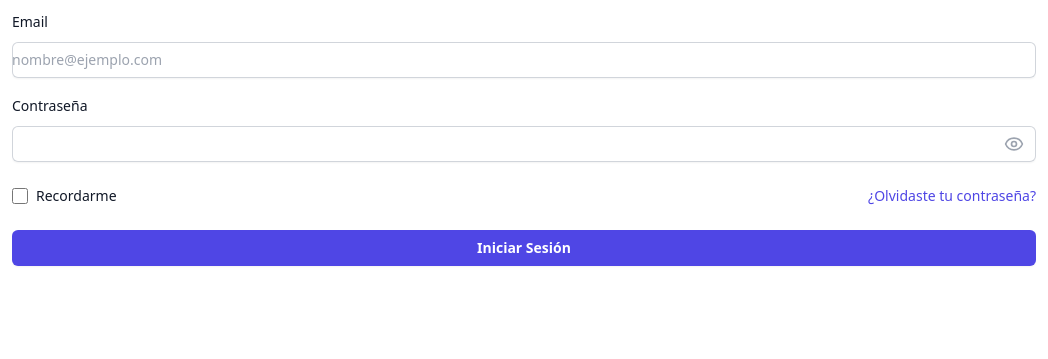
Test: PortalLoginForm Component › displays error message on failure
Type "test@example.com" into the field labelled "Email".
click(524, 60); type("test@example.com")  # box [12,42,1036,78]
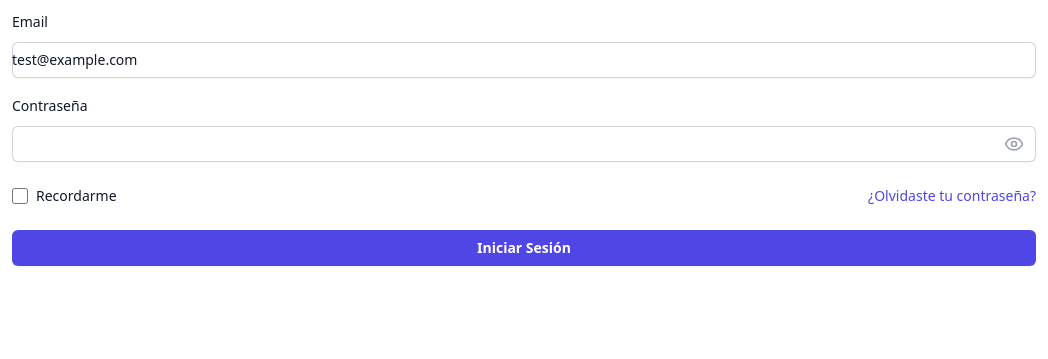
Type "wrongpass" into the password field labelled "Contraseña".
click(524, 144); type("wrongpass")  # box [12,126,1036,162]
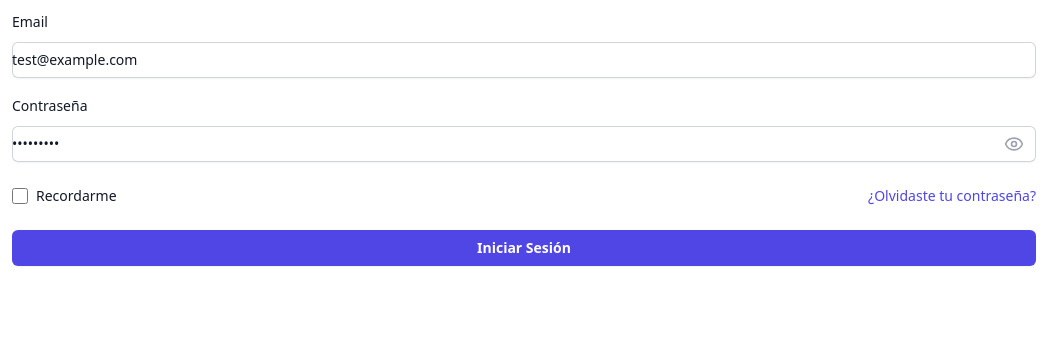
Click the button "Iniciar Sesión".
click(524, 248)  # box [12,230,1036,266]
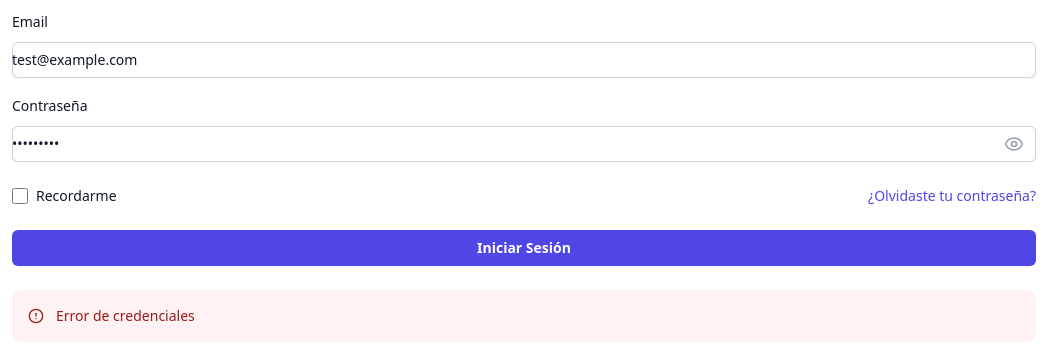
Now the text "Error de credenciales" is shown, box [56,306,195,326]
